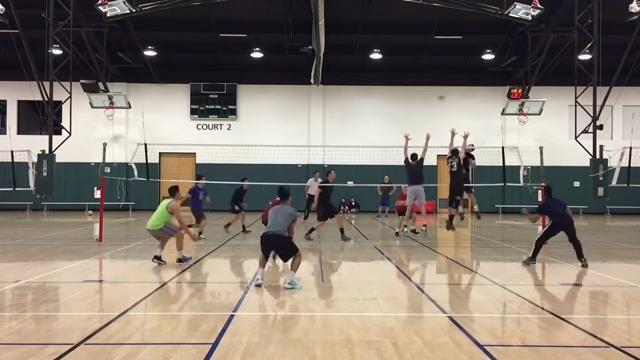Attack: (455, 142, 485, 221)
Block: (390, 126, 430, 238), (443, 123, 470, 236)
Player: (522, 185, 587, 267), (254, 187, 301, 288), (146, 185, 196, 264), (304, 170, 338, 240), (187, 175, 210, 239), (224, 178, 250, 233), (303, 171, 319, 220), (395, 186, 407, 236), (261, 197, 280, 225)
ball: (435, 93, 447, 104)
